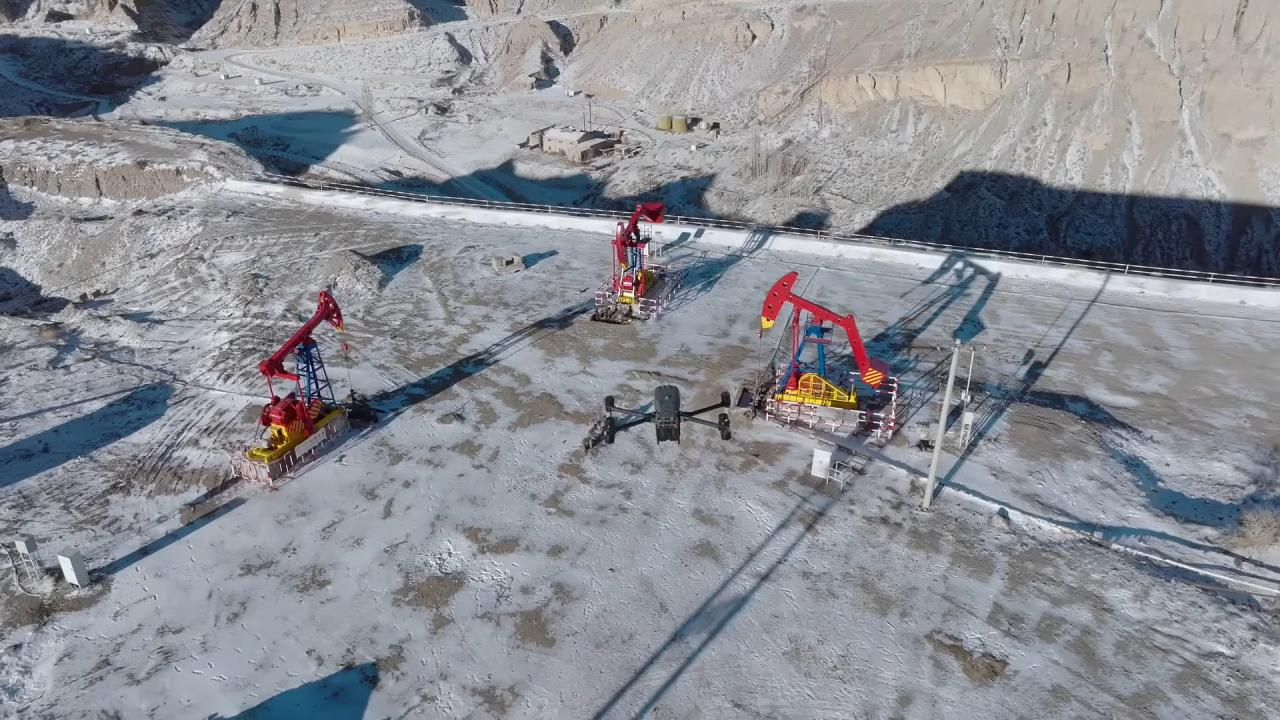Drone: (591, 376, 740, 455)
